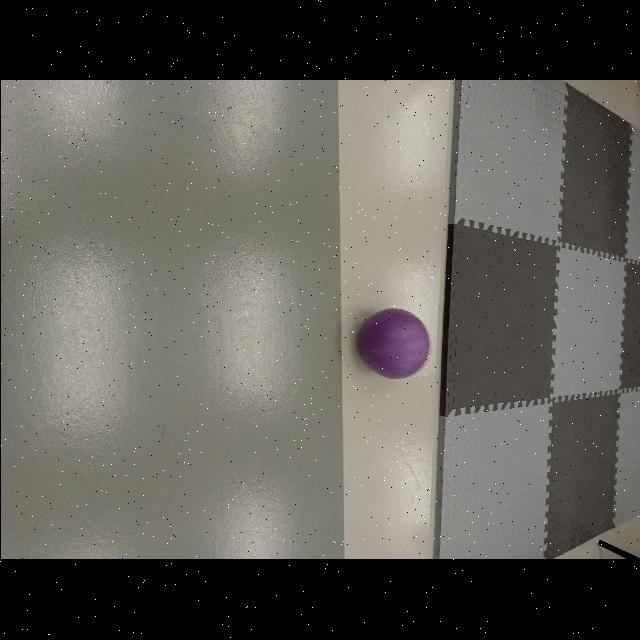P: (356, 308, 429, 379)
